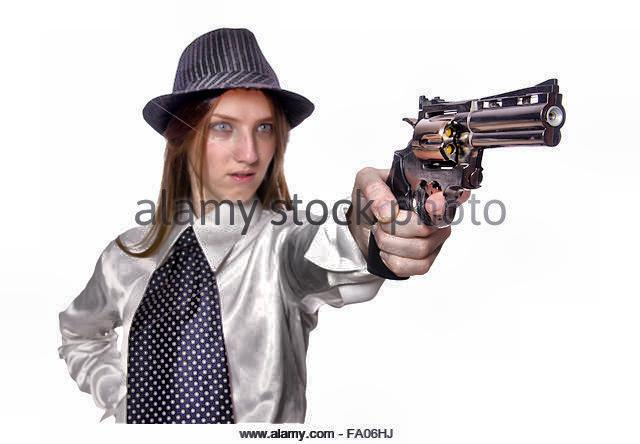pistol: (363, 77, 564, 280)
